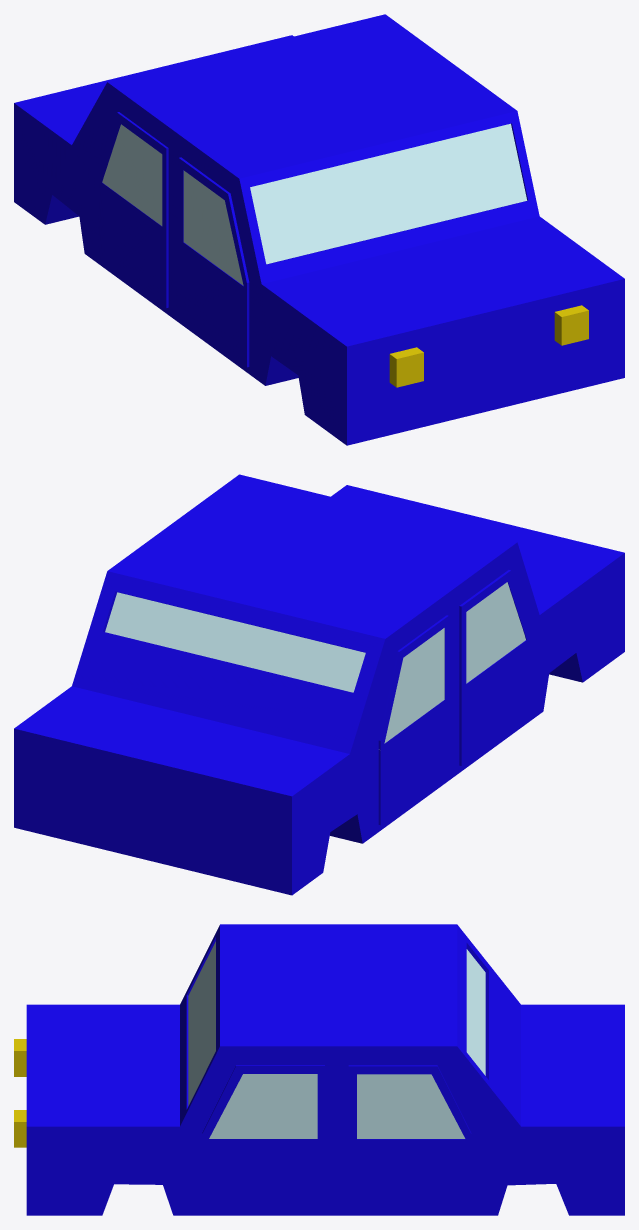
Rendered from Coche Azul.fbx.
3 renders of one model, top to bottom at view 1: azimuth 30°, elevation 25°; view 2: azimuth 150°, elevation 25°; view 3: azimuth 270°, elevation 25°, orthographic. The views are drawn at different scales.
Parts seen in each view (by area): view 1: Cube, Cube.010, Cube.004, Cube.005, Cube.009, Cube.008, Cube.002; view 2: Cube, Cube.011, Cube.004, Cube.005, Cube.009, Cube.008; view 3: Cube, Cube.001, Cube.003, Cube.006, Cube.007, Cube.010, Cube.011, Cube.002.
Part boxes in pixels (bbox=[...]): Cube: bbox=[14, 14, 624, 445]; Cube.010: bbox=[250, 123, 527, 264]; Cube.004: bbox=[178, 157, 249, 367]; Cube.005: bbox=[98, 112, 168, 307]; Cube.009: bbox=[102, 124, 162, 225]; Cube.008: bbox=[183, 170, 243, 285]; Cube.002: bbox=[389, 305, 588, 387]; Cube: bbox=[14, 474, 624, 895]; Cube.011: bbox=[105, 592, 365, 692]; Cube.004: bbox=[459, 570, 529, 765]; Cube.005: bbox=[378, 615, 448, 825]; Cube.009: bbox=[379, 628, 444, 749]; Cube.008: bbox=[466, 582, 525, 683]; Cube: bbox=[26, 924, 624, 1215]; Cube.001: bbox=[348, 1065, 471, 1209]; Cube.003: bbox=[202, 1065, 324, 1209]; Cube.006: bbox=[209, 1074, 317, 1138]; Cube.007: bbox=[357, 1074, 465, 1138]; Cube.010: bbox=[188, 941, 215, 1105]; Cube.011: bbox=[466, 949, 485, 1075]; Cube.002: bbox=[14, 1039, 26, 1147].
Bounding box in the file's own units: 172 × 109 × 358.
